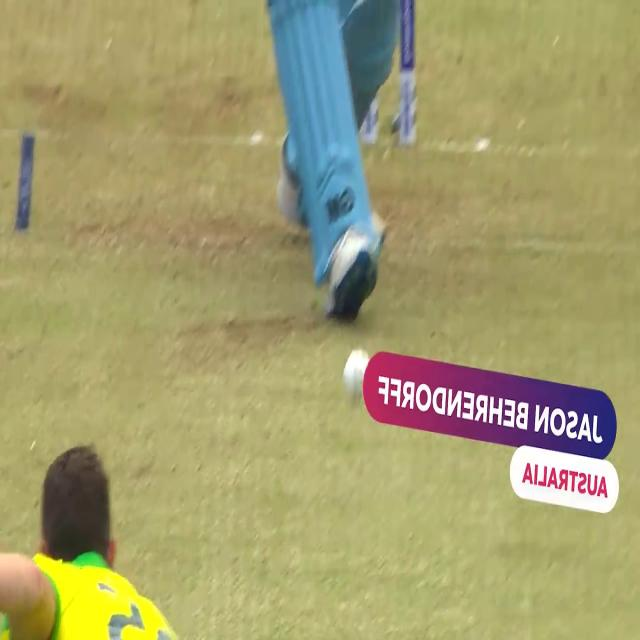ball: (340, 346, 368, 399)
